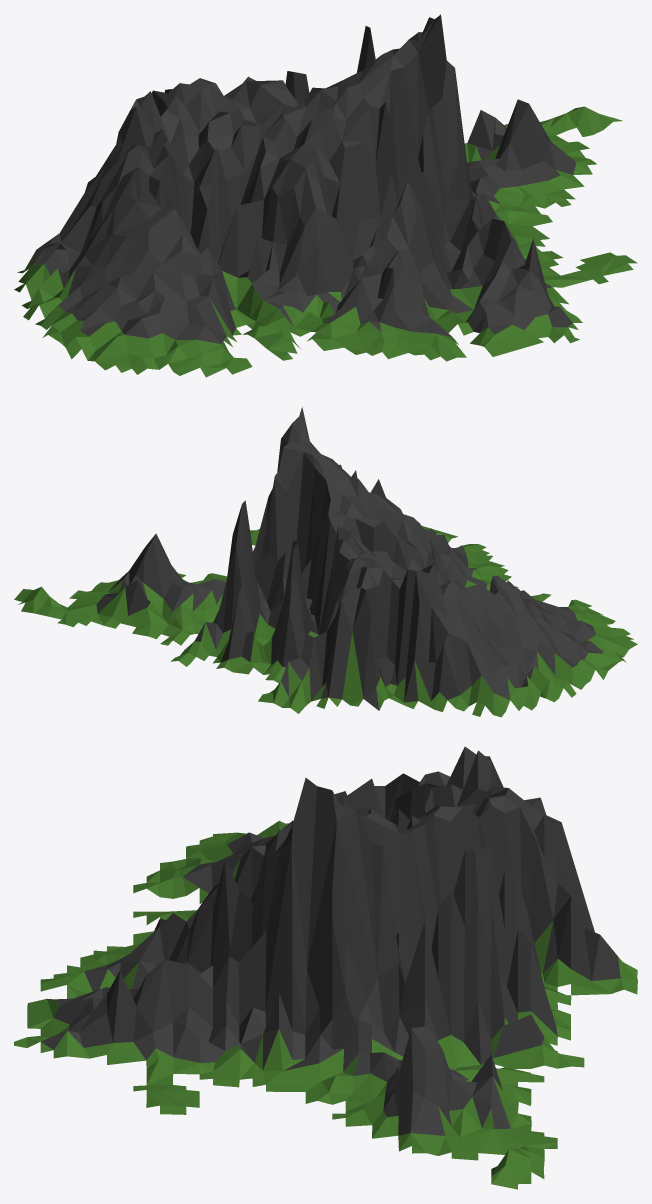
File: Mountain5.fbx
3 views of the same model, one above another, from view 1: azimuth 30°, elevation 25°; view 2: azimuth 150°, elevation 25°; view 3: azimuth 270°, elevation 25° (orthographic). The views are drawn at different scales.
Visible parts, largest first — view 1: Plane.017; view 2: Plane.017; view 3: Plane.017.
Part boxes in pixels (x1,y1,x2,y2): Plane.017: (14,14,637,377); Plane.017: (14,407,637,717); Plane.017: (14,746,637,1189).
Size of the model in its own units: 1455 by 517 by 1069.
